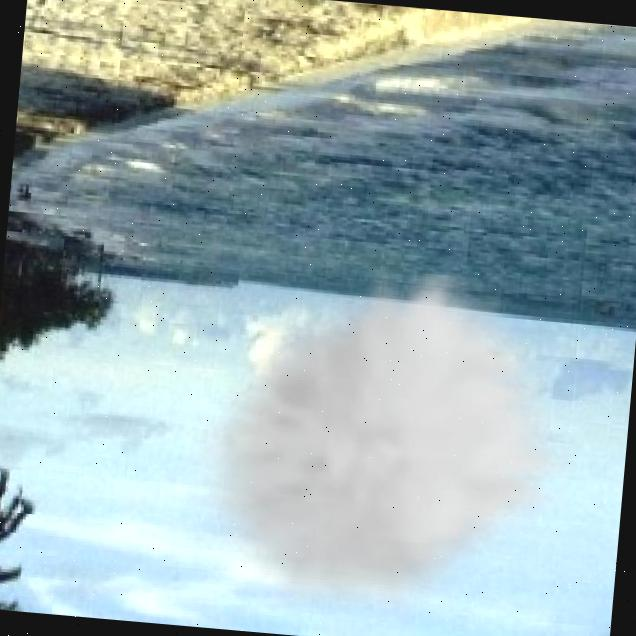smoke: (176, 254, 588, 634)
